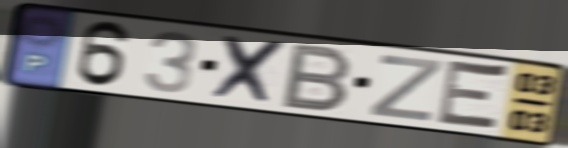3: (143, 30, 199, 94)
6: (73, 19, 131, 89)
B: (278, 41, 356, 114)
E: (432, 56, 513, 136)
X: (209, 33, 291, 108)
Z: (365, 52, 446, 124)
